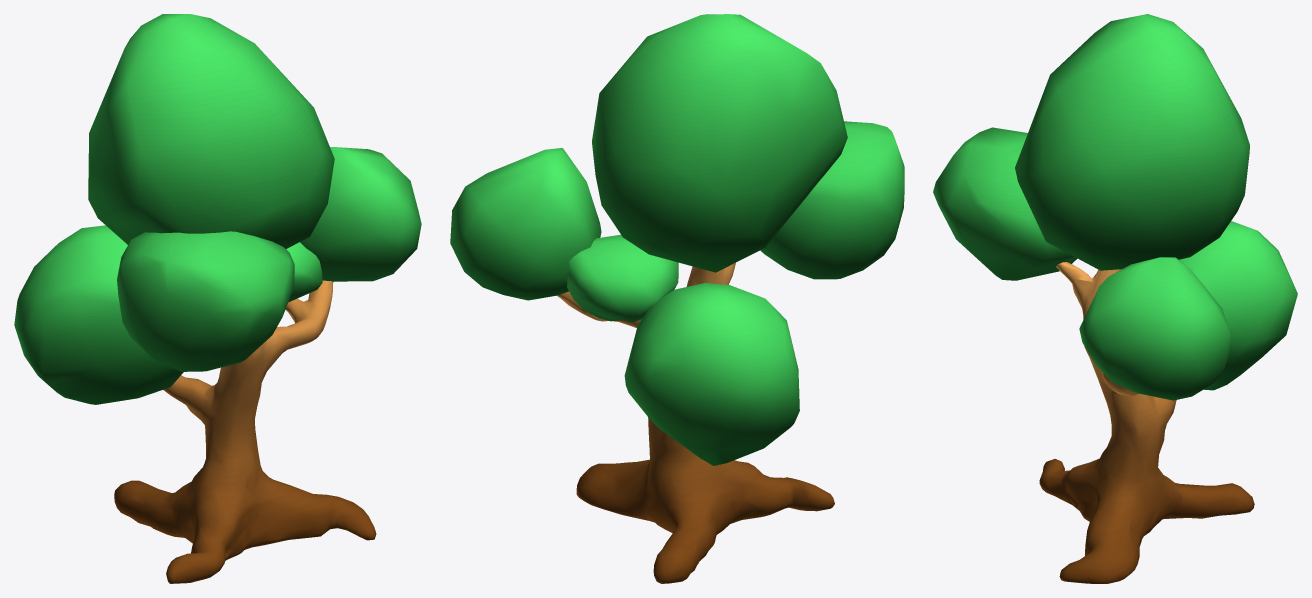
File: Tree2 B2G1.fbx
3 views of the same model, side by side, from view 1: azimuth 30°, elevation 25°; view 2: azimuth 150°, elevation 25°; view 3: azimuth 270°, elevation 25° (orthographic). The views are drawn at different scales.
Visible parts, largest first — view 1: Tree2 Leaves.002, Tree2 B2, Tree2 Leaves, Tree2 Leaves.004, Tree2 Leaves.003, Tree2 Leaves.001; view 2: Tree2 Leaves.002, Tree2 Leaves.004, Tree2 B2, Tree2 Leaves.003, Tree2 Leaves, Tree2 Leaves.001; view 3: Tree2 Leaves.002, Tree2 B2, Tree2 Leaves.003, Tree2 Leaves, Tree2 Leaves.004.
Boxes of the visible parts, x1,y1,x2,y2 form: Tree2 Leaves.002: [88, 14, 334, 248]; Tree2 B2: [114, 280, 376, 583]; Tree2 Leaves: [117, 231, 294, 371]; Tree2 Leaves.004: [14, 225, 183, 404]; Tree2 Leaves.003: [300, 147, 421, 281]; Tree2 Leaves.001: [286, 242, 322, 302]; Tree2 Leaves.002: [592, 14, 847, 272]; Tree2 Leaves.004: [624, 283, 799, 465]; Tree2 B2: [557, 262, 834, 583]; Tree2 Leaves.003: [450, 148, 601, 300]; Tree2 Leaves: [760, 121, 904, 279]; Tree2 Leaves.001: [566, 234, 678, 322]; Tree2 Leaves.002: [1015, 14, 1249, 270]; Tree2 B2: [1039, 262, 1254, 583]; Tree2 Leaves.003: [1079, 257, 1230, 400]; Tree2 Leaves: [933, 127, 1077, 280]; Tree2 Leaves.004: [1179, 221, 1297, 390].
Bounding box in the file's own units: 24.04 × 22.53 × 33.79.
